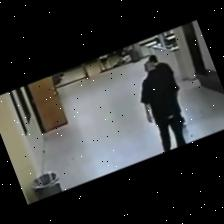person: (140, 61, 185, 152), (146, 55, 180, 112)
